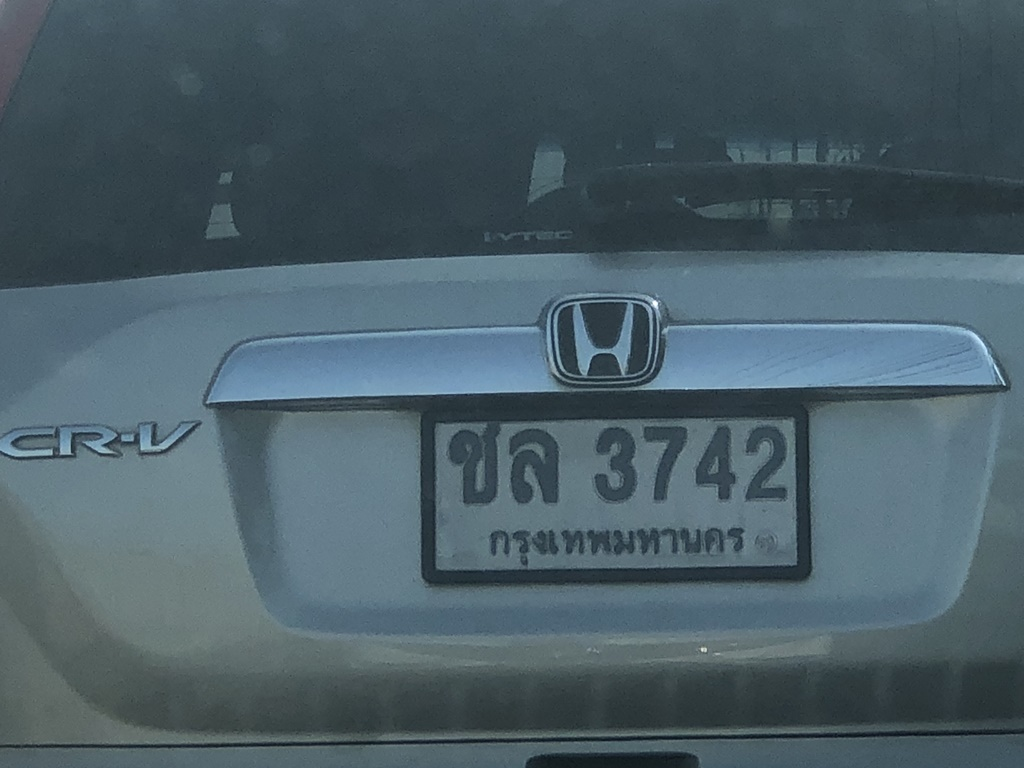three: (581, 420, 638, 505)
